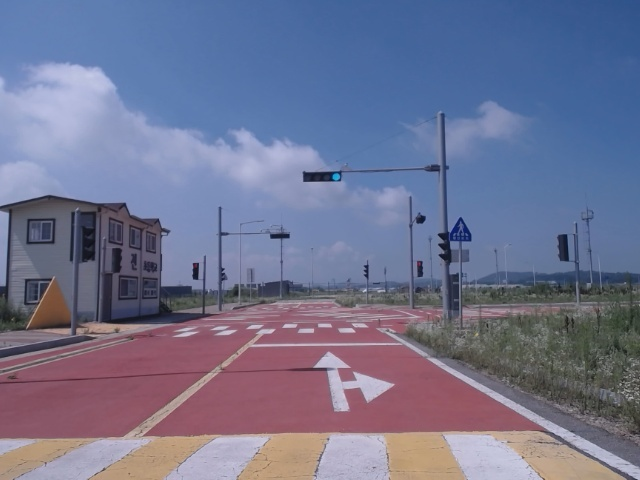straight_green_4: (302, 172, 342, 182)
